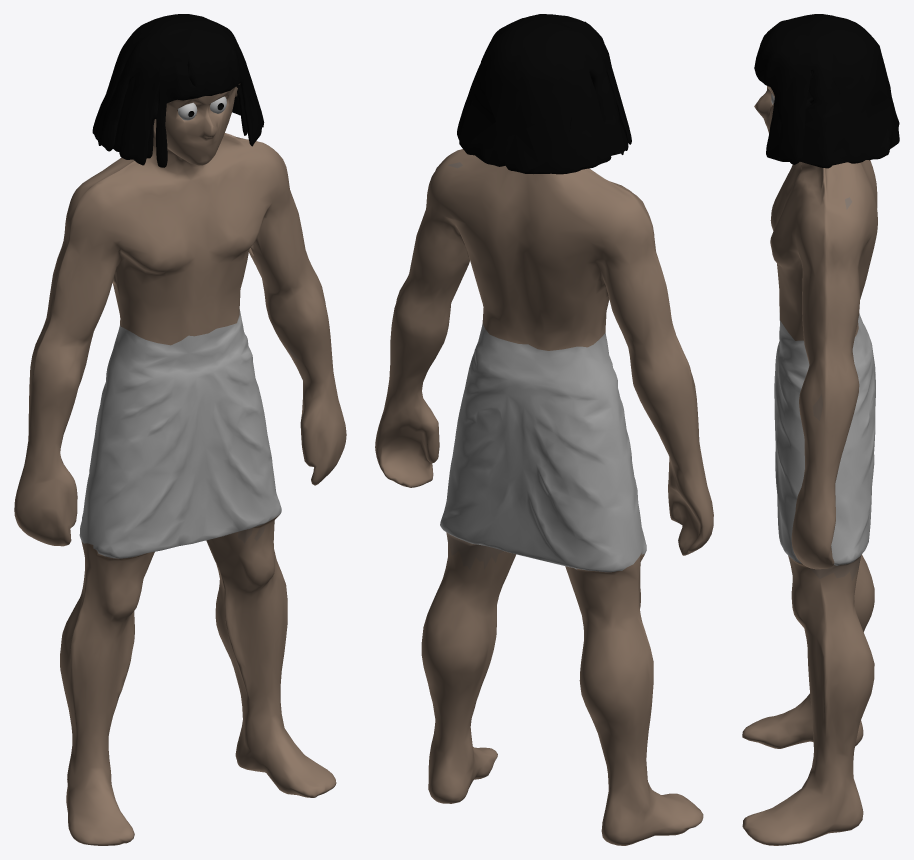
The model's file is correccion de personaje prin.fbx.
The picture shows the model from 3 angles, left to right: view 1: azimuth 30°, elevation 25°; view 2: azimuth 150°, elevation 25°; view 3: azimuth 270°, elevation 25°; orthographic projection. The views are drawn at different scales.
Visible parts, largest first — view 1: polySurface3; view 2: polySurface3; view 3: polySurface3.
Boxes of the visible parts, x1,y1,x2,y2 form: polySurface3: (14,14,346,845); polySurface3: (375,14,713,845); polySurface3: (742,14,899,845).
Bounding box in the file's own units: 30.04 × 67.72 × 12.58.
